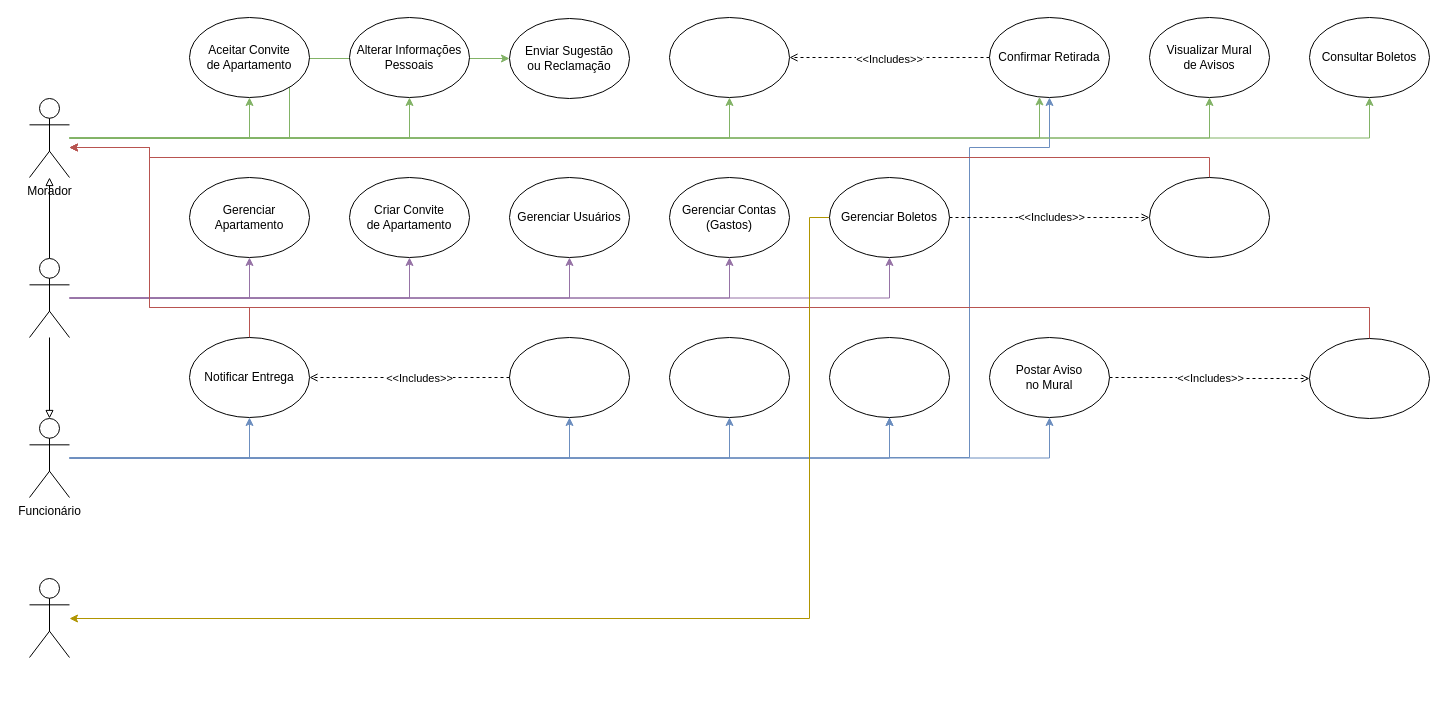
This 1447x711 diagram has some shape labels left out. The shapes that lost their labels are listed below. From the top down, each one's box as (x1, y1, x2, y2) in pixels, then its label:
(668, 16, 790, 98): Consultar Encomendas
(1148, 176, 1270, 258): Notificar Alteração nos Boletos
(28, 258, 70, 338): Sí ndico
(508, 336, 630, 418): Registrar Encomenda
(668, 336, 790, 418): Responder Sugestão ou Reclamação
(828, 336, 950, 418): Gerenciar Mural de Avisos
(1308, 338, 1430, 418): Notificar Aviso
(28, 578, 70, 658): Gateway de Pagamento
